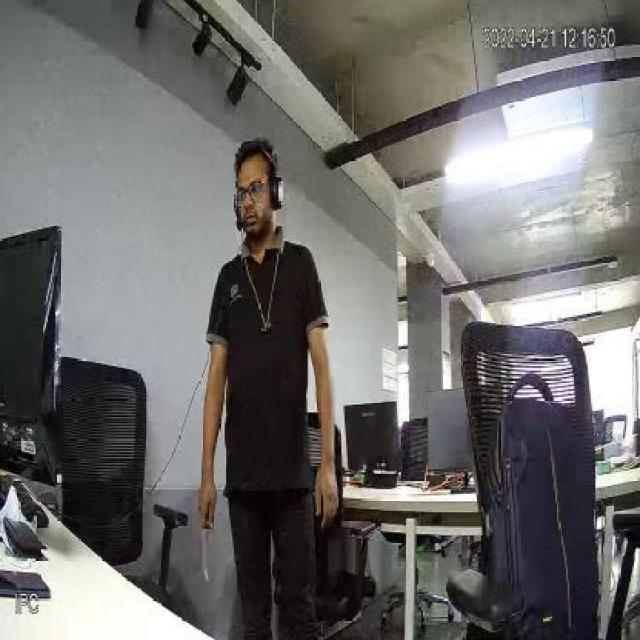-: (195, 508, 220, 591)
